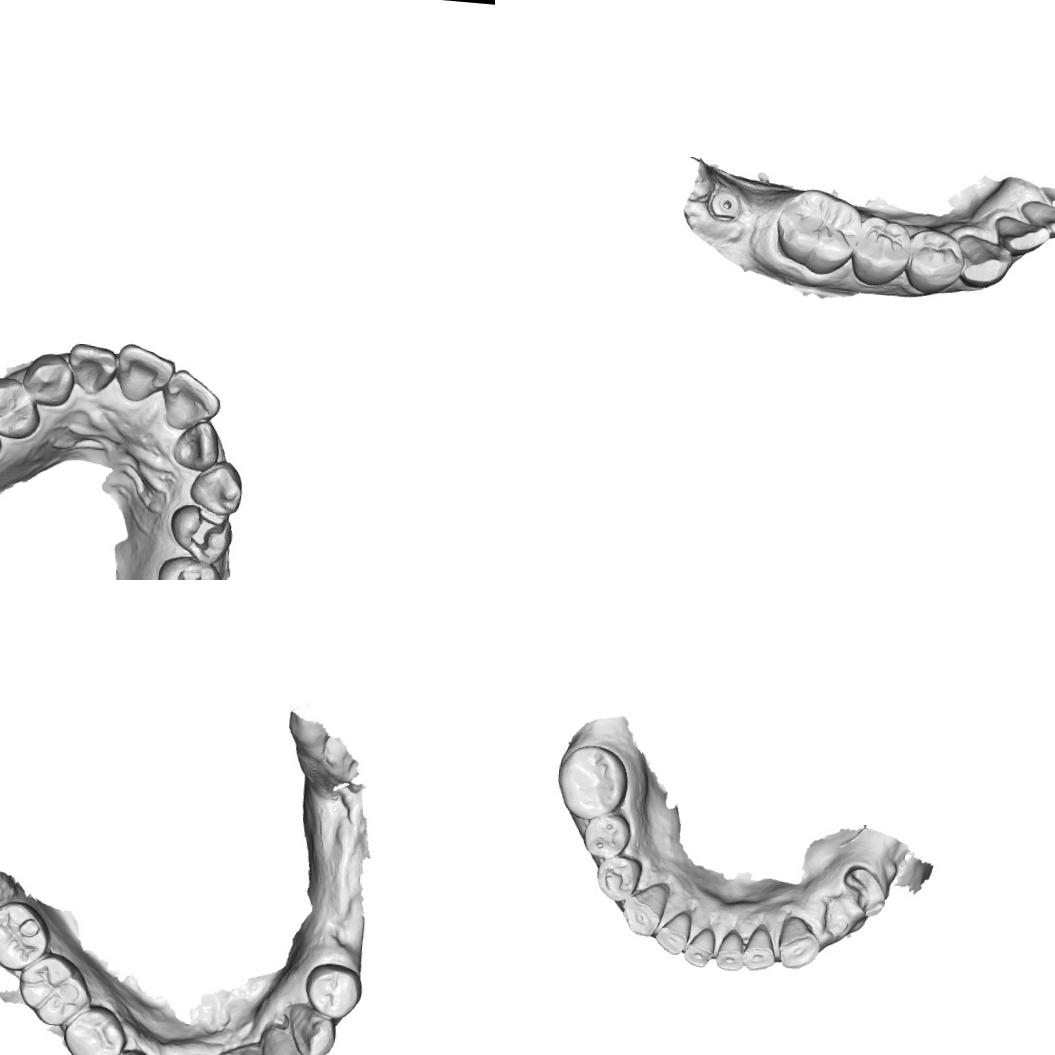canine: (618, 875, 674, 940), (185, 456, 244, 517), (956, 230, 1013, 290), (19, 350, 77, 408), (282, 1000, 341, 1055), (775, 910, 824, 974)
implant: (704, 184, 744, 226)
incisor: (112, 340, 178, 406), (160, 366, 223, 434), (64, 340, 118, 397), (170, 418, 222, 474), (992, 212, 1050, 260), (652, 905, 694, 957), (740, 920, 781, 973), (255, 1021, 317, 1055), (1014, 190, 1055, 240), (710, 924, 750, 975), (680, 922, 718, 970)
inlay: (182, 504, 229, 554), (170, 566, 208, 580)
molar: (768, 182, 868, 280), (552, 740, 634, 825), (14, 952, 90, 1031), (0, 895, 52, 975)
premolar: (846, 212, 912, 290), (901, 223, 968, 298), (300, 957, 364, 1024), (59, 1003, 131, 1055), (579, 808, 634, 863), (0, 374, 44, 441), (593, 850, 645, 904)
